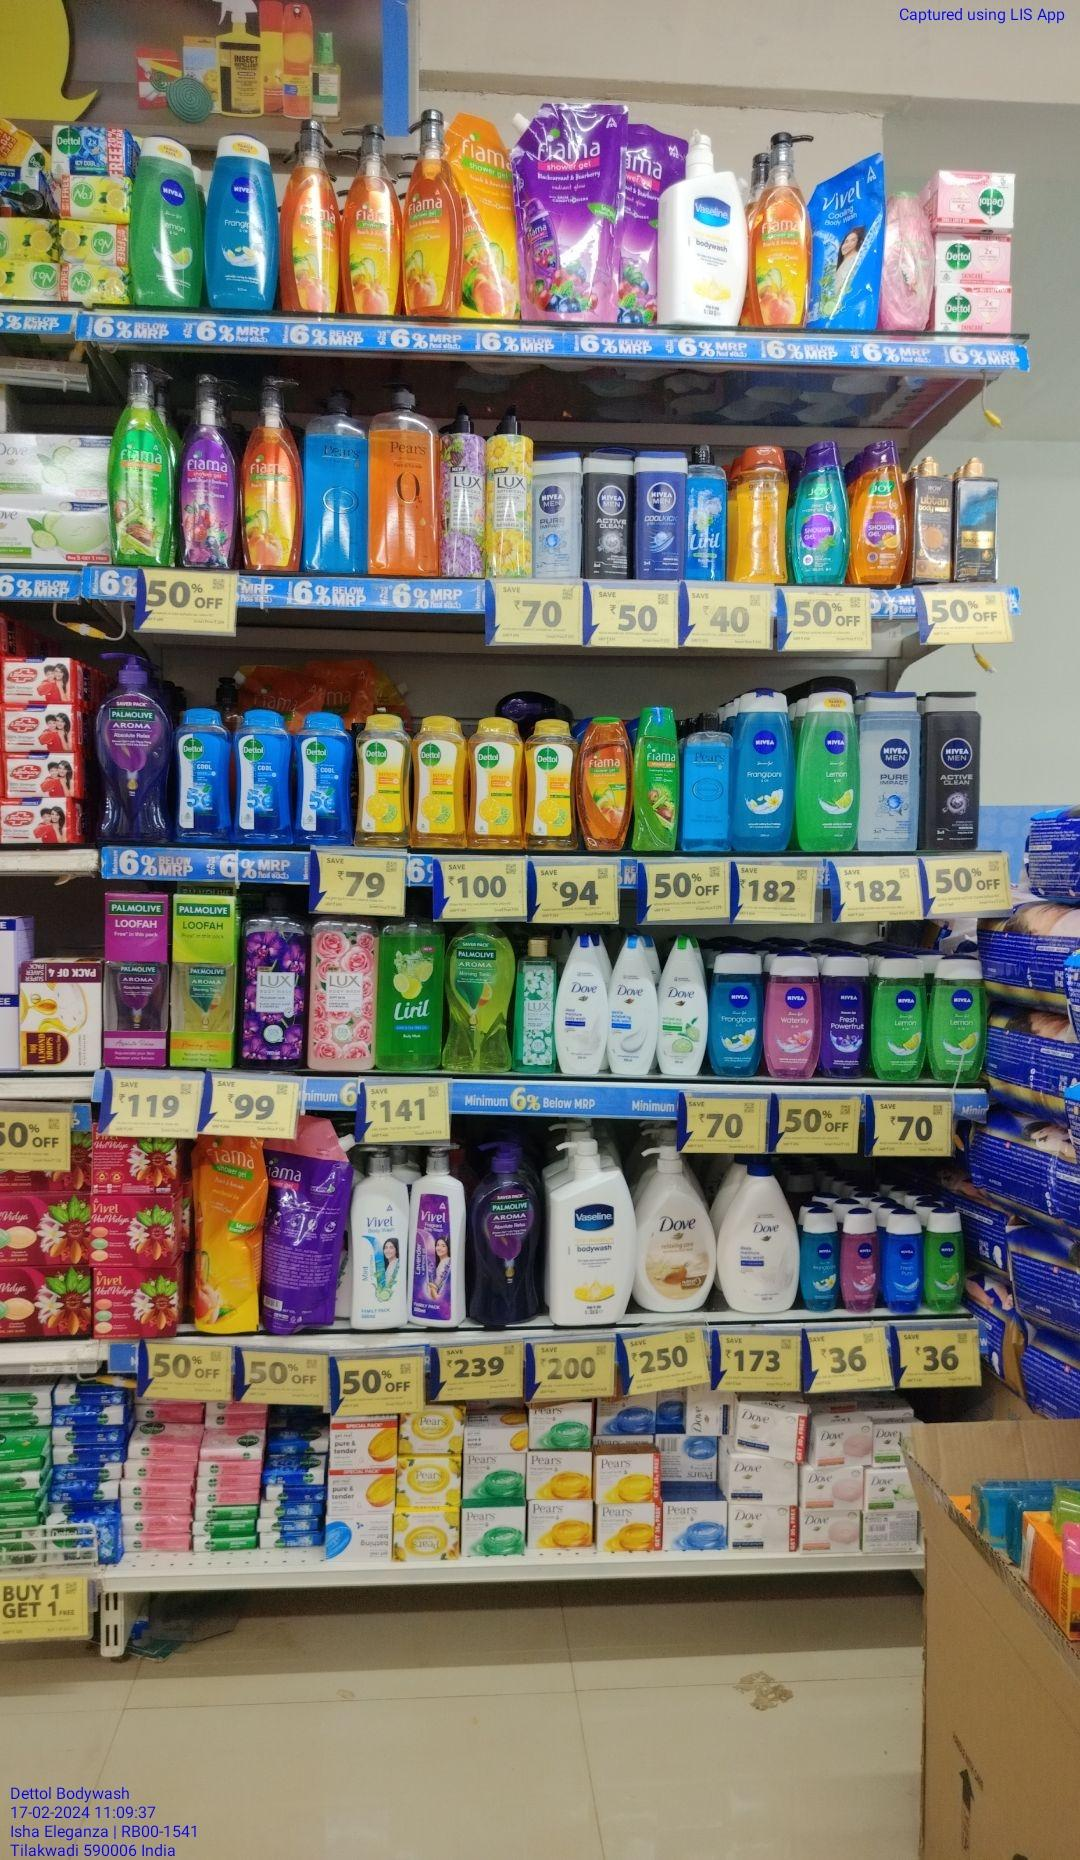Dettol_Bodywash_Cool: (235, 710, 293, 845), (174, 707, 230, 839), (298, 713, 352, 846)
Dettol_Bodywash_Refresh: (468, 717, 525, 850), (411, 716, 464, 848), (359, 713, 410, 847), (527, 721, 576, 851)
Dove_Deep_Moisture_Body_Wash_250ML: (554, 937, 607, 1076)
Dove_Gentle_Exfoliating_Body_Wash_250ML: (608, 936, 658, 1076)
Dove_Refreshing_Body_Wash_250ML: (658, 936, 708, 1076)
Fiama_Shower_Gel_Peach_and_Avocado_250ML: (577, 716, 631, 850)
Get_Real_Shower_Gel_Moisturising_Glycerin_300ML: (735, 443, 789, 584)
Joy_Shower_Gel_Mandarin_and_Lemongrass_250ML: (852, 440, 909, 585)
Joy_Shower_Gel_Mint_and_Eucalyptus_250ML: (792, 442, 850, 584)
Liril_Cooling_Mint_Body_Wash_250ML: (687, 442, 729, 581)
Lux_Body_Wash_Skin_Detox_Freesia_Scent_and_Alove_Vera_245ML: (514, 940, 553, 1075)
Nivea_Shower_Gel_Frangipani_and_Oil_250ML: (737, 690, 792, 851), (708, 954, 764, 1076)
Nivea_Shower_Gel_Fresh_Powerfruit_250ML: (822, 955, 870, 1076)
Nivea_Shower_Gel_Lemon_and_Oil_250ML: (798, 683, 859, 850), (933, 956, 986, 1080), (876, 956, 926, 1081)
Nivea_Shower_Gel_Waterlily_and_Oil_250ML: (769, 955, 823, 1078)
Pears_Pure_Glycerin_and_Mint_Extracts_Body_Wash_250ML: (681, 711, 732, 852)
